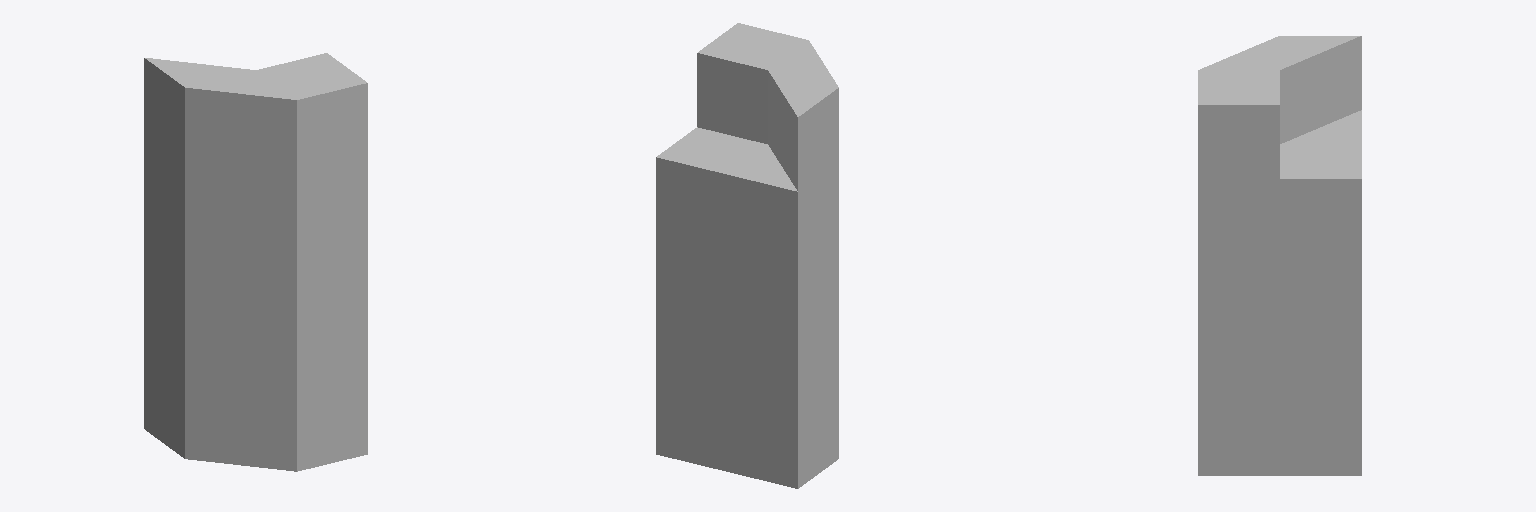
The model's file is Corner3.obj.
The picture shows the model from 3 angles: view 1: azimuth 30°, elevation 25°; view 2: azimuth 150°, elevation 25°; view 3: azimuth 270°, elevation 25°; orthographic projection.
Visible parts, largest first — view 1: Corner3; view 2: Corner3; view 3: Corner3.
Part boxes in pixels (bbox=[...]): Corner3: bbox=[144, 53, 367, 471]; Corner3: bbox=[656, 23, 838, 488]; Corner3: bbox=[1198, 36, 1361, 475].
Size of the model in its own units: 2 by 5 by 2.